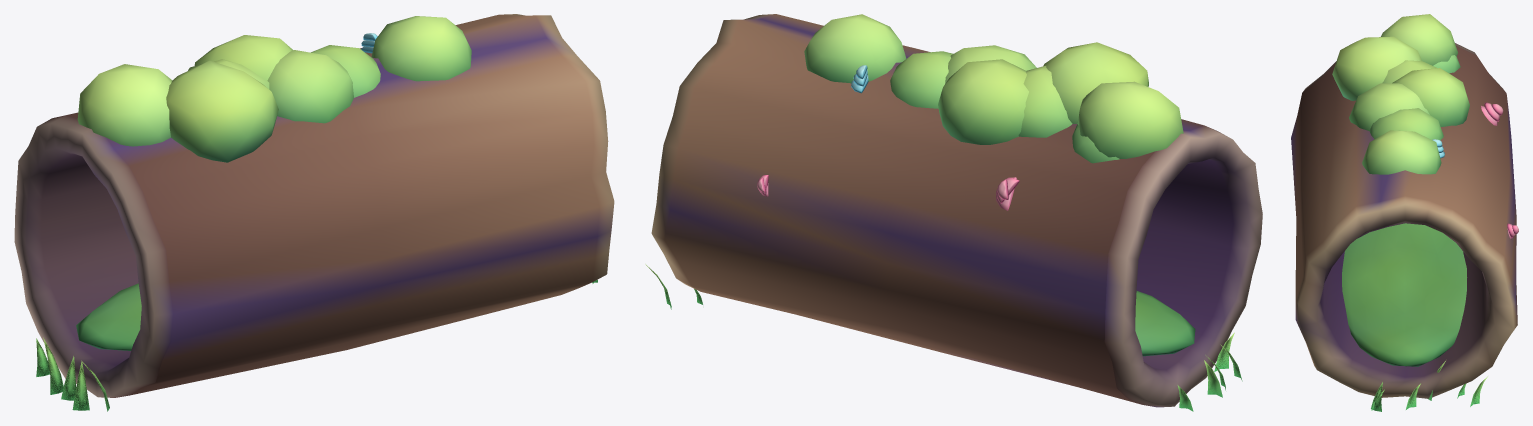
The model's file is verdant_log_hollow.glb.
3 views of the same model, side by side, from view 1: azimuth 30°, elevation 25°; view 2: azimuth 150°, elevation 25°; view 3: azimuth 270°, elevation 25° (orthographic). The views are drawn at different scales.
Parts seen in each view (by area): view 1: verdant_log_hollow; view 2: verdant_log_hollow; view 3: verdant_log_hollow.
Part boxes in pixels (x1=…): verdant_log_hollow: x1=14, y1=14, x2=614, y2=411; verdant_log_hollow: x1=645, y1=14, x2=1262, y2=411; verdant_log_hollow: x1=1291, y1=14, x2=1518, y2=411.
Bounding box in the file's own units: 6.44 × 3.59 × 3.1.
